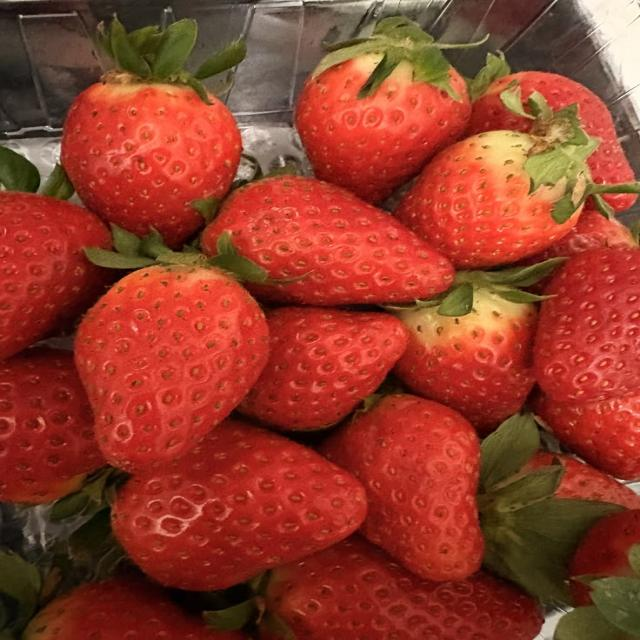strawberry: (113, 419, 366, 590), (61, 19, 241, 247), (75, 265, 268, 471), (395, 100, 618, 268), (295, 17, 471, 202), (202, 176, 453, 305), (320, 394, 484, 580), (260, 535, 542, 639), (394, 130, 579, 268), (393, 285, 537, 433), (238, 307, 407, 429), (0, 191, 111, 360), (467, 71, 633, 183), (0, 347, 105, 504), (534, 248, 639, 403), (21, 576, 248, 639), (554, 509, 639, 639), (534, 392, 639, 480), (520, 450, 639, 508), (570, 508, 639, 606), (520, 209, 638, 264), (527, 209, 638, 263)
